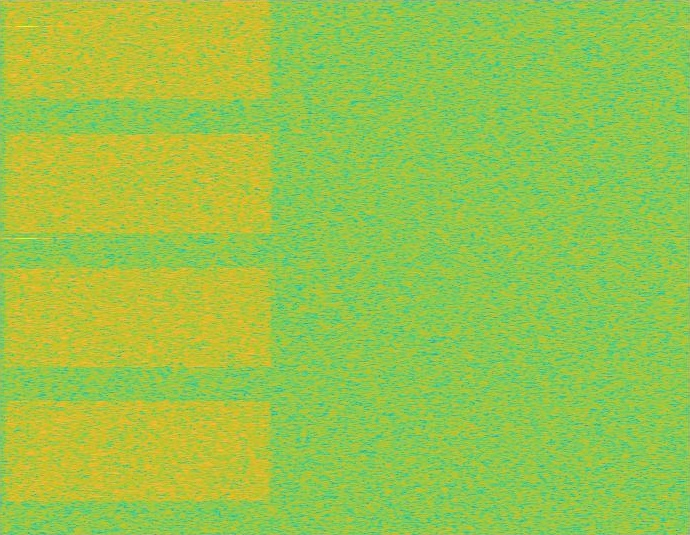5G: (0, 0, 276, 534)
Radar: (20, 0, 34, 534)
